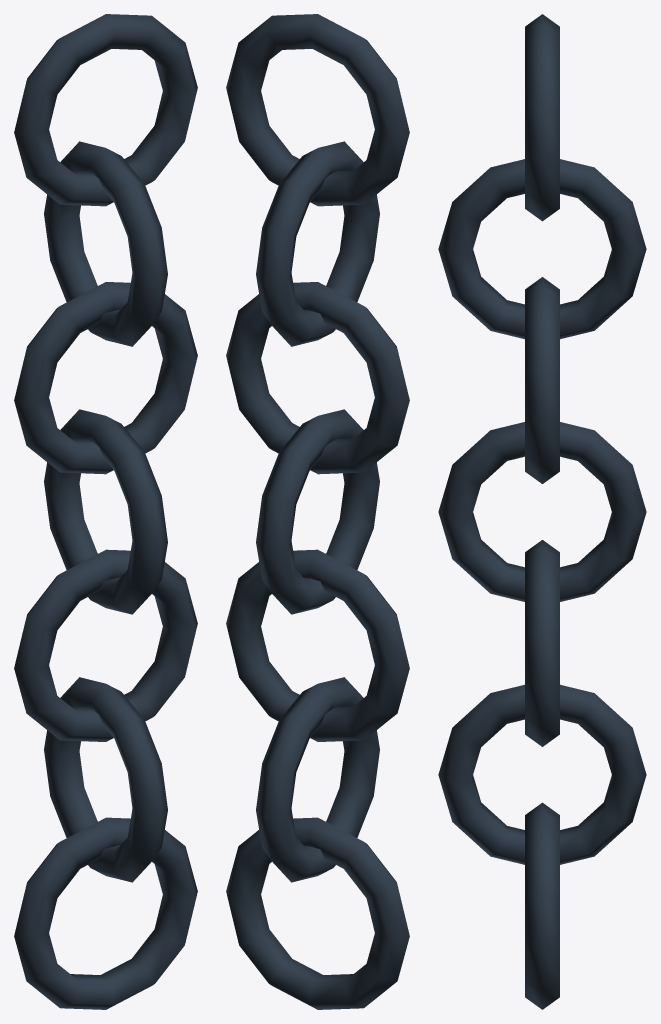
Rendered from hanging-chain.glb.
The picture shows the model from 3 angles, left to right: view 1: azimuth 30°, elevation 25°; view 2: azimuth 150°, elevation 25°; view 3: azimuth 270°, elevation 25°; orthographic projection.
Parts seen in each view (by area): view 1: link-6, link-0, link-4, link-2, link-3, link-1, link-5; view 2: link-6, link-0, link-4, link-2, link-3, link-1, link-5; view 3: link-3, link-1, link-5, link-0, link-6, link-2, link-4.
Part boxes in pixels (bbox=[...]): link-6: bbox=[14, 14, 197, 206]; link-0: bbox=[14, 817, 197, 1009]; link-4: bbox=[14, 282, 197, 474]; link-2: bbox=[14, 549, 197, 741]; link-3: bbox=[44, 409, 167, 614]; link-1: bbox=[44, 677, 167, 882]; link-5: bbox=[44, 141, 167, 346]; link-6: bbox=[226, 14, 409, 206]; link-0: bbox=[226, 817, 409, 1009]; link-4: bbox=[226, 282, 409, 474]; link-2: bbox=[226, 549, 409, 741]; link-3: bbox=[256, 409, 379, 614]; link-1: bbox=[256, 677, 379, 882]; link-5: bbox=[256, 141, 379, 346]; link-3: bbox=[438, 422, 646, 601]; link-1: bbox=[438, 684, 646, 864]; link-5: bbox=[438, 159, 646, 339]; link-0: bbox=[525, 802, 559, 1009]; link-6: bbox=[525, 14, 559, 221]; link-2: bbox=[525, 540, 559, 746]; link-4: bbox=[525, 277, 559, 483].
Size of the model in its own units: 0.316 by 1.64 by 0.316.
